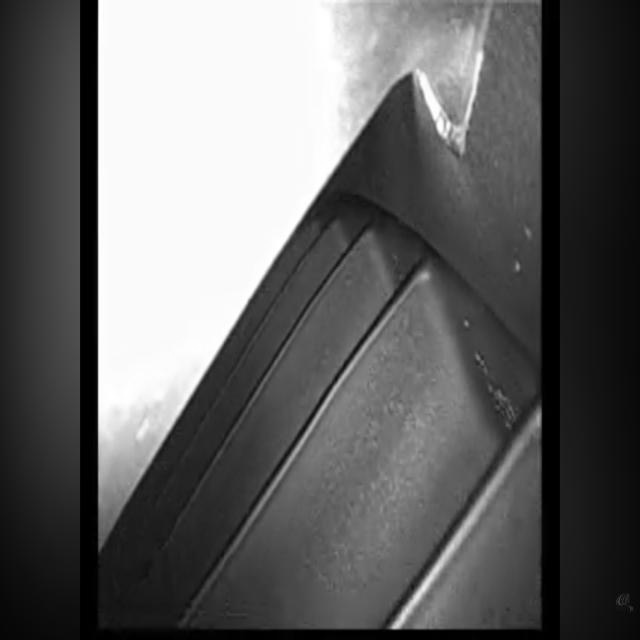turbine_blade: (185, 256, 505, 629)
